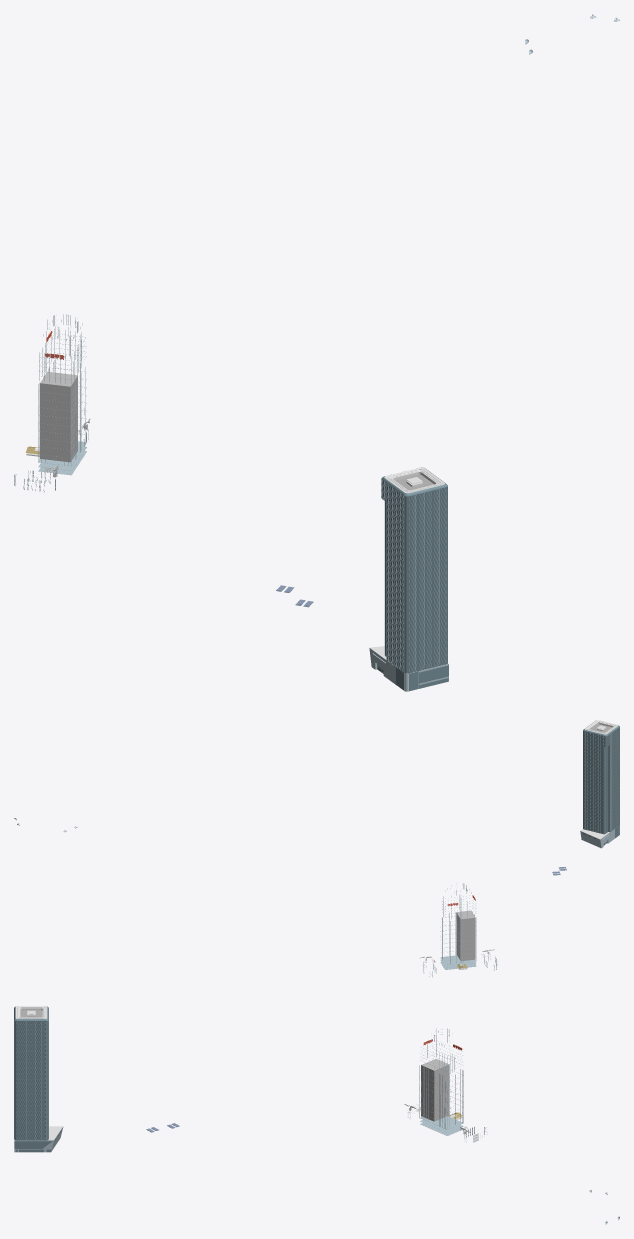
The model's file is lujiazui-16.glb.
The picture shows the model from 3 angles, top to bottom: view 1: azimuth 30°, elevation 25°; view 2: azimuth 150°, elevation 25°; view 3: azimuth 270°, elevation 25°; orthographic projection. The views are drawn at different scales.
Parts seen in each view (by area): view 1: source_2994_Mat3d66-1303573-2120-8235_part0, source_2993_Mat3d66-1303573-2119-613_part0, source_2933_Mat3d66-1303573-270-2509_part0, source_2932_Mat3d66-1303573-2119-613_part0, source_2996_Mat3d66-1303573-11-3935_part0; view 2: source_2994_Mat3d66-1303573-2120-8235_part0, source_2993_Mat3d66-1303573-2119-613_part0, source_2932_Mat3d66-1303573-2119-613_part0, source_2933_Mat3d66-1303573-270-2509_part0, source_2996_Mat3d66-1303573-11-3935_part0; view 3: source_2994_Mat3d66-1303573-2120-8235_part0, source_2932_Mat3d66-1303573-2119-613_part0, source_2933_Mat3d66-1303573-270-2509_part0, source_2993_Mat3d66-1303573-2119-613_part0, source_2996_Mat3d66-1303573-11-3935_part0.
Part boxes in pixels (box(x1,y1,x2,y2)): source_2994_Mat3d66-1303573-2120-8235_part0: box(377, 467, 448, 691); source_2993_Mat3d66-1303573-2119-613_part0: box(369, 480, 448, 691); source_2933_Mat3d66-1303573-270-2509_part0: box(40, 371, 77, 462); source_2932_Mat3d66-1303573-2119-613_part0: box(14, 314, 88, 491); source_2996_Mat3d66-1303573-11-3935_part0: box(370, 467, 448, 673); source_2994_Mat3d66-1303573-2120-8235_part0: box(583, 721, 619, 845); source_2993_Mat3d66-1303573-2119-613_part0: box(580, 727, 619, 848); source_2932_Mat3d66-1303573-2119-613_part0: box(423, 883, 497, 977); source_2933_Mat3d66-1303573-270-2509_part0: box(456, 910, 475, 961); source_2996_Mat3d66-1303573-11-3935_part0: box(580, 720, 618, 839); source_2994_Mat3d66-1303573-2120-8235_part0: box(14, 1006, 61, 1152); source_2932_Mat3d66-1303573-2119-613_part0: box(408, 1028, 487, 1142); source_2933_Mat3d66-1303573-270-2509_part0: box(421, 1059, 449, 1121); source_2993_Mat3d66-1303573-2119-613_part0: box(14, 1020, 63, 1152); source_2996_Mat3d66-1303573-11-3935_part0: box(15, 1006, 62, 1140).
Size of the model in its own units: 827 by 211 by 874.
